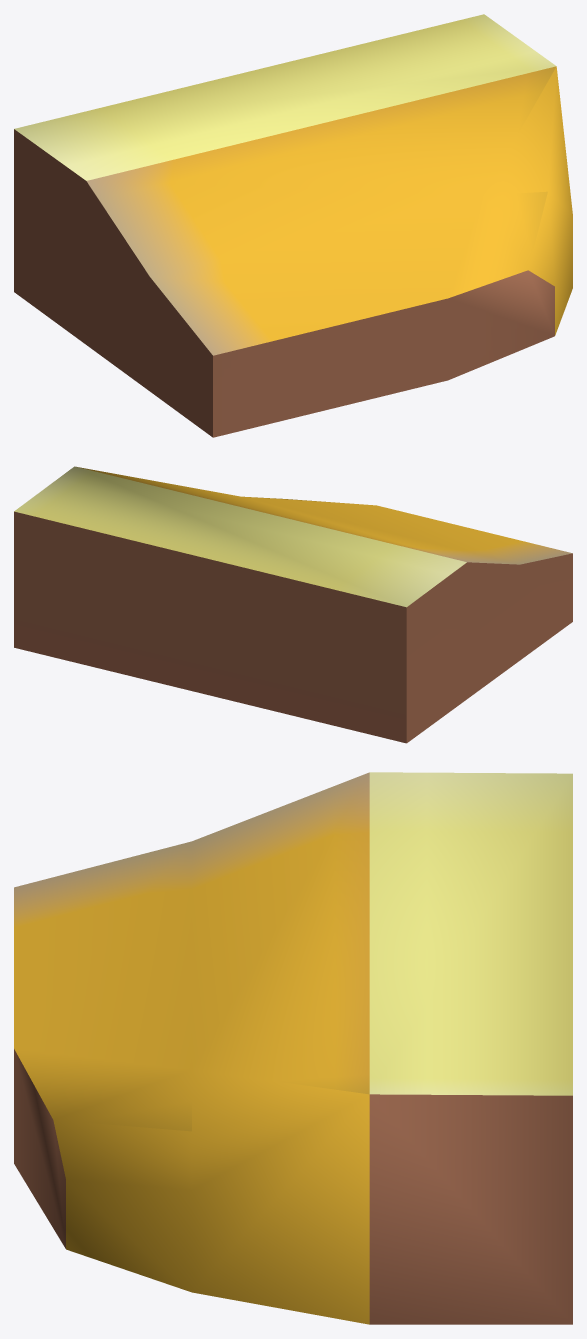
File: Shore.SliceConvex.C.Hor.Desert.glb
The picture shows the model from 3 angles, top to bottom: view 1: azimuth 30°, elevation 25°; view 2: azimuth 150°, elevation 25°; view 3: azimuth 270°, elevation 25°; orthographic projection. The views are drawn at different scales.
Parts seen in each view (by area): view 1: Shore.SliceConvex.C.Hor.Desert; view 2: Shore.SliceConvex.C.Hor.Desert; view 3: Shore.SliceConvex.C.Hor.Desert.
Part boxes in pixels (bbox=[...]): Shore.SliceConvex.C.Hor.Desert: bbox=[14, 14, 572, 437]; Shore.SliceConvex.C.Hor.Desert: bbox=[14, 466, 572, 743]; Shore.SliceConvex.C.Hor.Desert: bbox=[14, 772, 572, 1324].
Size of the model in its own units: 3 by 1 by 2.2.
1 material, 1 textured.
